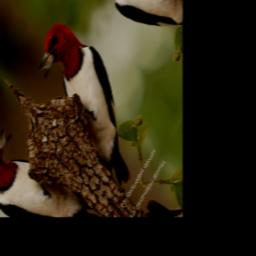Woodpecker: (24, 9, 162, 189)
